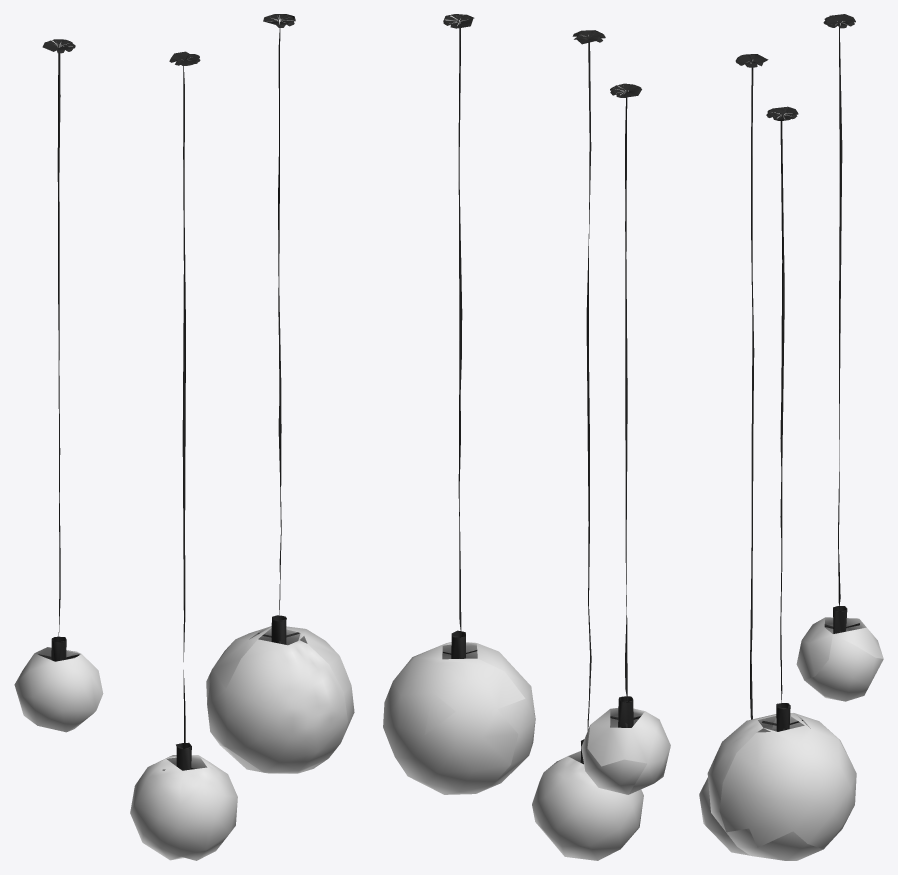
File: LightTop0012.obj
3 views of the same model, side by side, from view 1: azimuth 30°, elevation 25°; view 2: azimuth 150°, elevation 25°; view 3: azimuth 270°, elevation 25° (orthographic). The views are drawn at different scales.
Size of the model in its own units: 0.396 by 1.03 by 0.218.
1 material, 1 textured.
